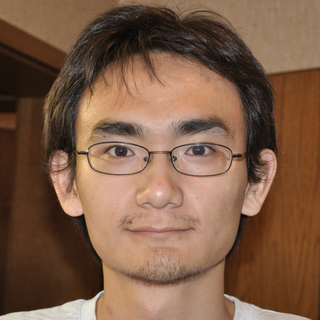eye: (177, 140, 224, 163), (96, 140, 140, 164)
